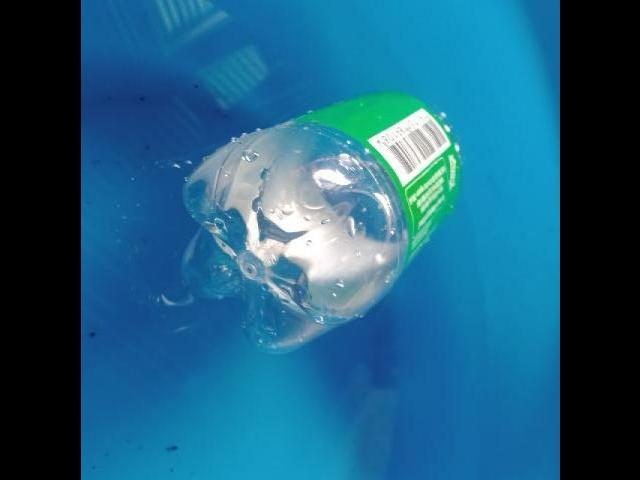Bottle: (170, 76, 472, 366)
